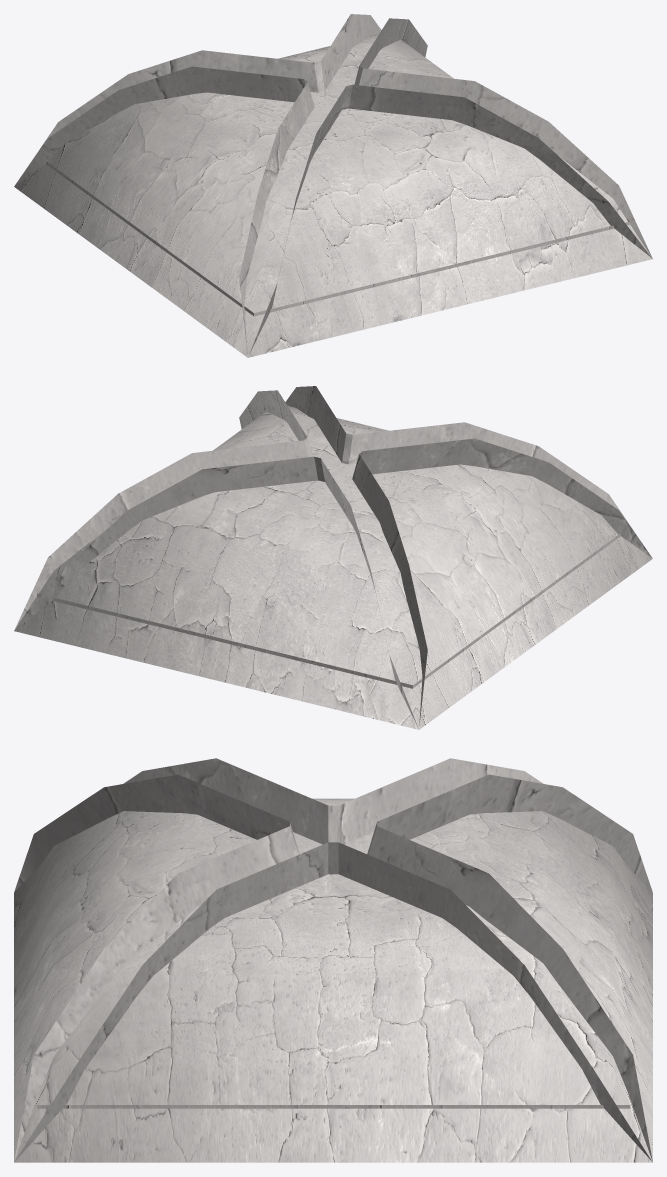
Rendered from Ceiling_C2.fbx.
3 views of the same model, one above another, from view 1: azimuth 30°, elevation 25°; view 2: azimuth 150°, elevation 25°; view 3: azimuth 270°, elevation 25° (orthographic). The views are drawn at different scales.
Visible parts, largest first — view 1: Ceiling_C2; view 2: Ceiling_C2; view 3: Ceiling_C2.
Boxes of the visible parts, x1,y1,x2,y2 form: Ceiling_C2: (14, 14, 652, 357); Ceiling_C2: (14, 386, 652, 729); Ceiling_C2: (14, 758, 652, 1162).
Bounding box in the file's own units: 2.7 × 0.9585 × 2.7.
